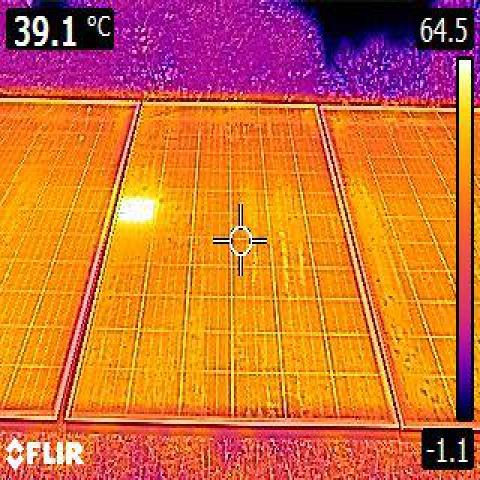fault: (121, 197, 153, 226)
